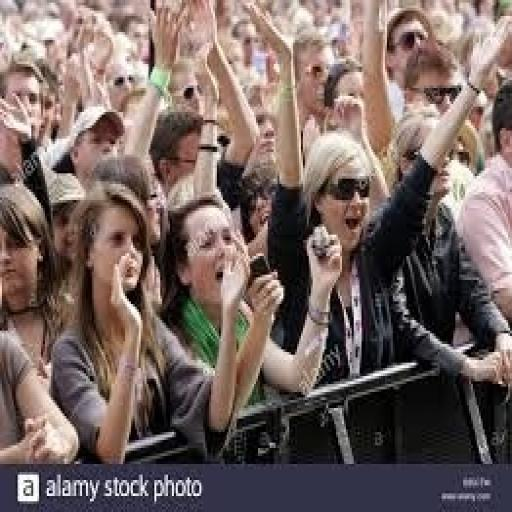clapping: (47, 176, 258, 464)
